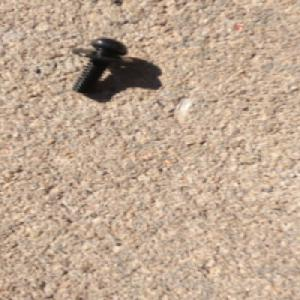BoltWasher: (70, 36, 136, 93)
